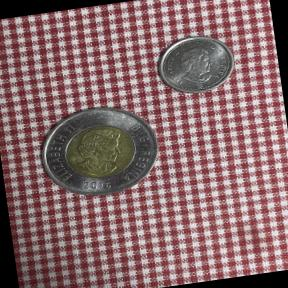Canada-10cent-B: (146, 28, 242, 102)
Canada-2Dollar-B: (30, 92, 170, 208)
